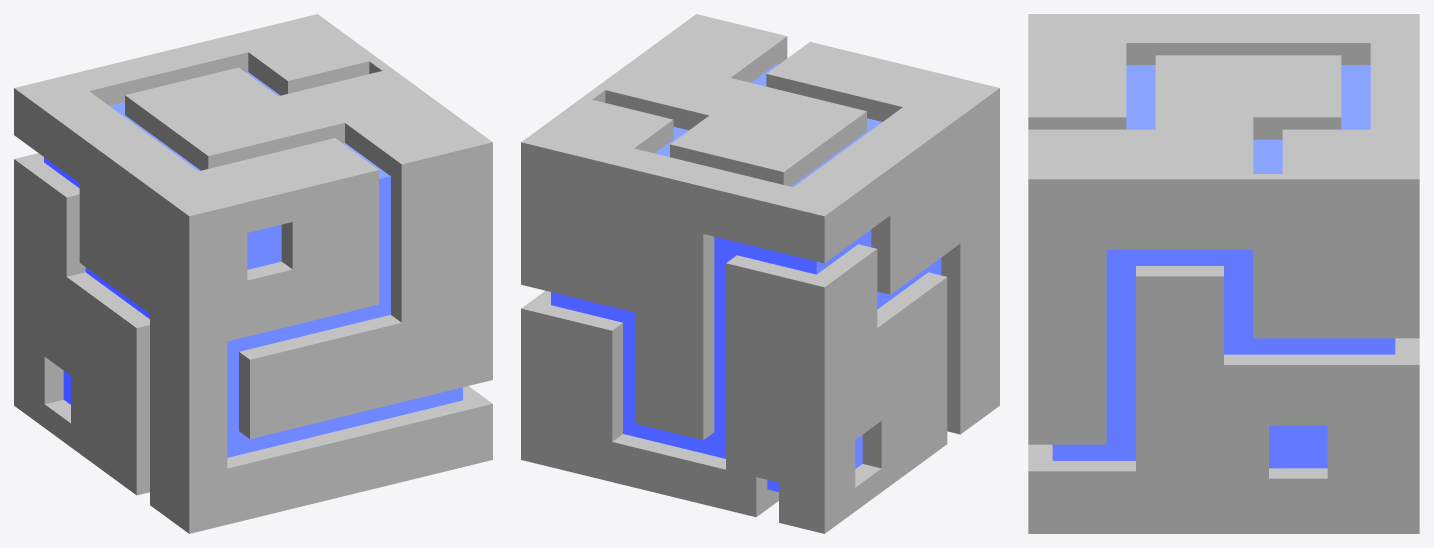
3 views of the same model, side by side, from view 1: azimuth 30°, elevation 25°; view 2: azimuth 150°, elevation 25°; view 3: azimuth 270°, elevation 25° (orthographic). The views are drawn at different scales.
Visible parts, largest first — view 1: main, light; view 2: main, light; view 3: main, light.
Part boxes in pixels (x1,y1,x2,y2): main: [14, 14, 492, 533]; light: [44, 72, 462, 457]; main: [521, 14, 999, 533]; light: [551, 64, 941, 492]; main: [1028, 14, 1419, 533]; light: [1052, 65, 1395, 468].
Size of the model in its own units: 2 by 2 by 2.
